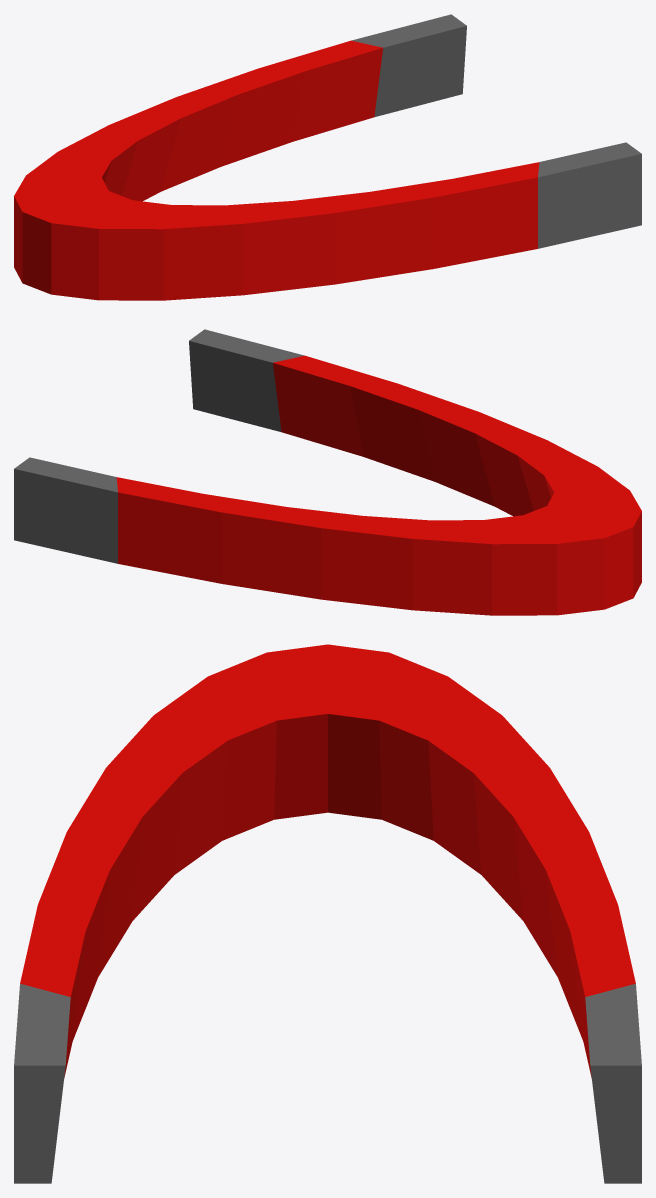
Rendered from magnet3.fbx.
3 views of the same model, one above another, from view 1: azimuth 30°, elevation 25°; view 2: azimuth 150°, elevation 25°; view 3: azimuth 270°, elevation 25° (orthographic). The views are drawn at different scales.
Parts seen in each view (by area): view 1: Cylinder.001; view 2: Cylinder.001; view 3: Cylinder.001.
Boxes of the visible parts, x1,y1,x2,y2 form: Cylinder.001: (14,14,641,300); Cylinder.001: (14,329,641,615); Cylinder.001: (14,644,641,1183).
Bounding box in the file's own units: 51.95 × 6.77 × 32.72.
